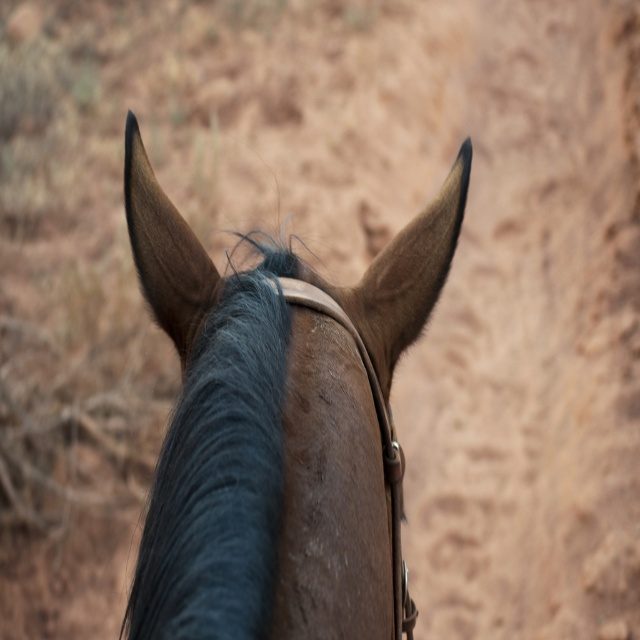Horse: (118, 109, 472, 640)
